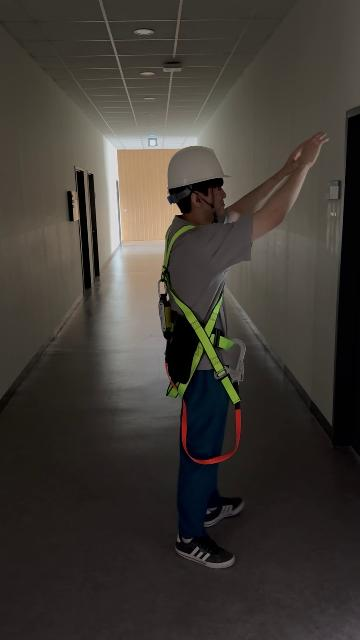helmet_worn: (165, 145, 233, 189)
shoe_not_worn: (175, 531, 235, 568), (203, 495, 244, 526)
vest_worn: (159, 225, 247, 461)
